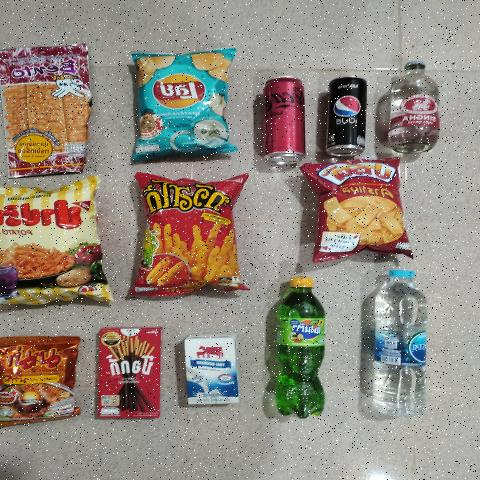bento_red: (1, 48, 96, 167)
coke_red: (266, 77, 305, 163)
crystal: (361, 264, 434, 419)
fanta_green: (261, 272, 333, 424)
lay_blue: (142, 55, 227, 154)
mama: (0, 334, 81, 426)
paprika: (0, 186, 98, 313)
party_red: (316, 162, 402, 256)
pepsi_black: (329, 76, 368, 154)
pokki: (98, 326, 161, 422)
singha_soda: (390, 61, 441, 146)
thai_denmark: (182, 334, 238, 407)
twisco: (144, 174, 237, 295)
